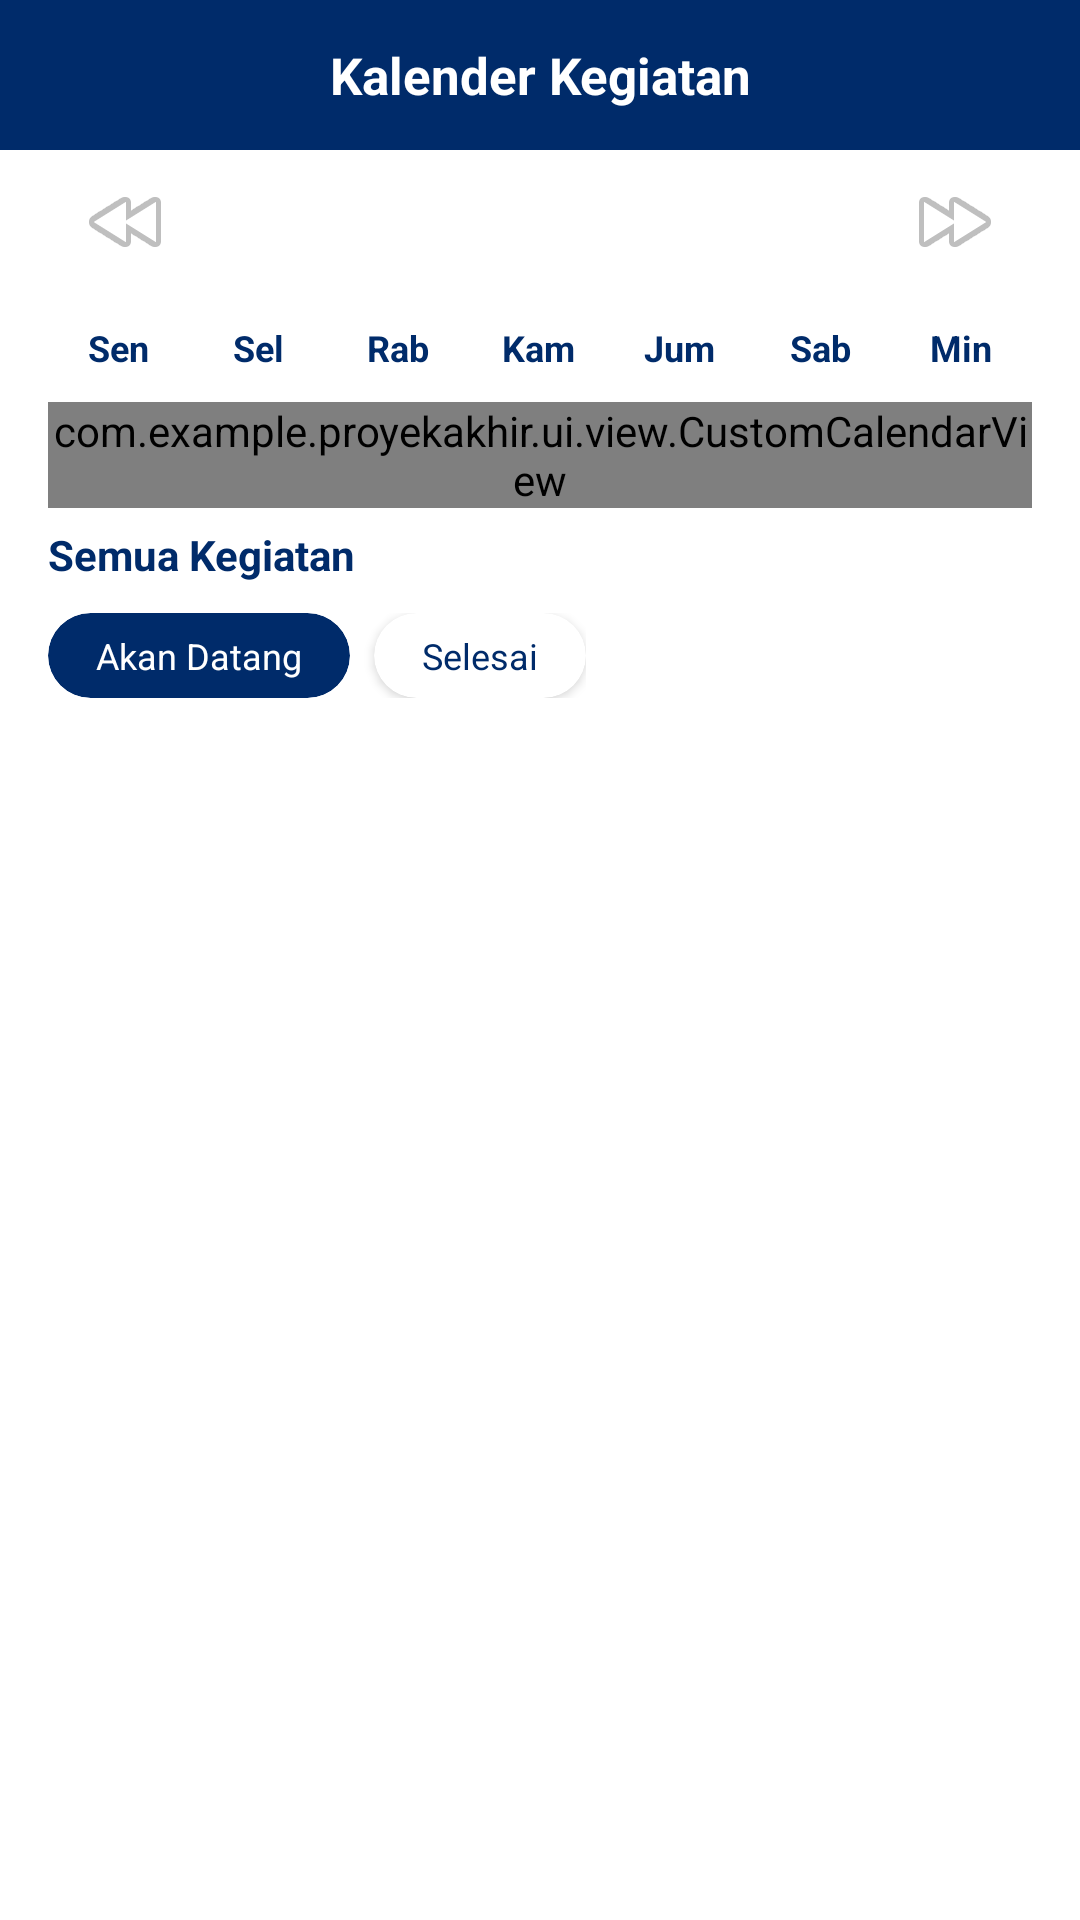

Where to tap for icons on this 1080×1920 app screen, as point (x, y):
Next: point (955, 222)
Prev: point (125, 222)
